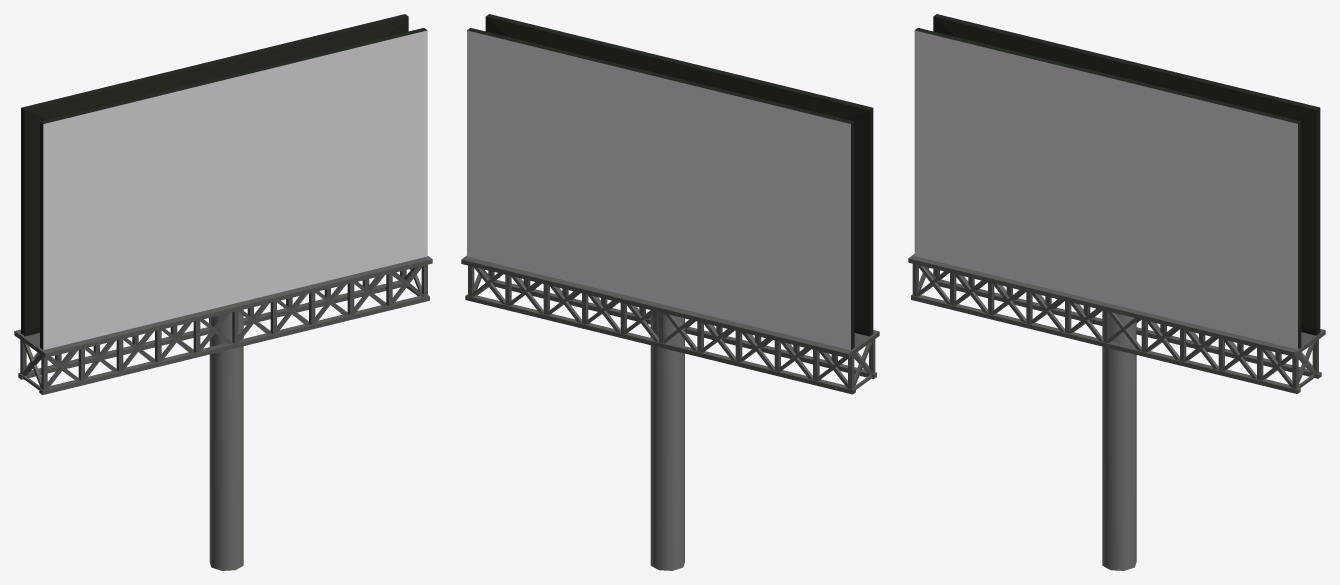
The model's file is Billboard_White.glb.
3 renders of one model, left to right at view 1: azimuth 30°, elevation 25°; view 2: azimuth 150°, elevation 25°; view 3: azimuth 330°, elevation 25°, orthographic.
Parts seen in each view (by area): view 1: billboardCross_White; view 2: billboardCross_White; view 3: billboardCross_White.
Part boxes in pixels (<box>): billboardCross_White: <box>14,14,432,570</box>; billboardCross_White: <box>461,14,879,570</box>; billboardCross_White: <box>908,14,1325,570</box>.
Size of what is drawn, in the model's own units: 4.09 by 5 by 0.5662.
1 material, 1 textured.
